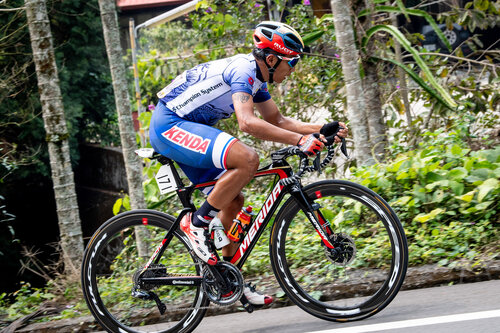bicycle: (73, 125, 408, 333)
